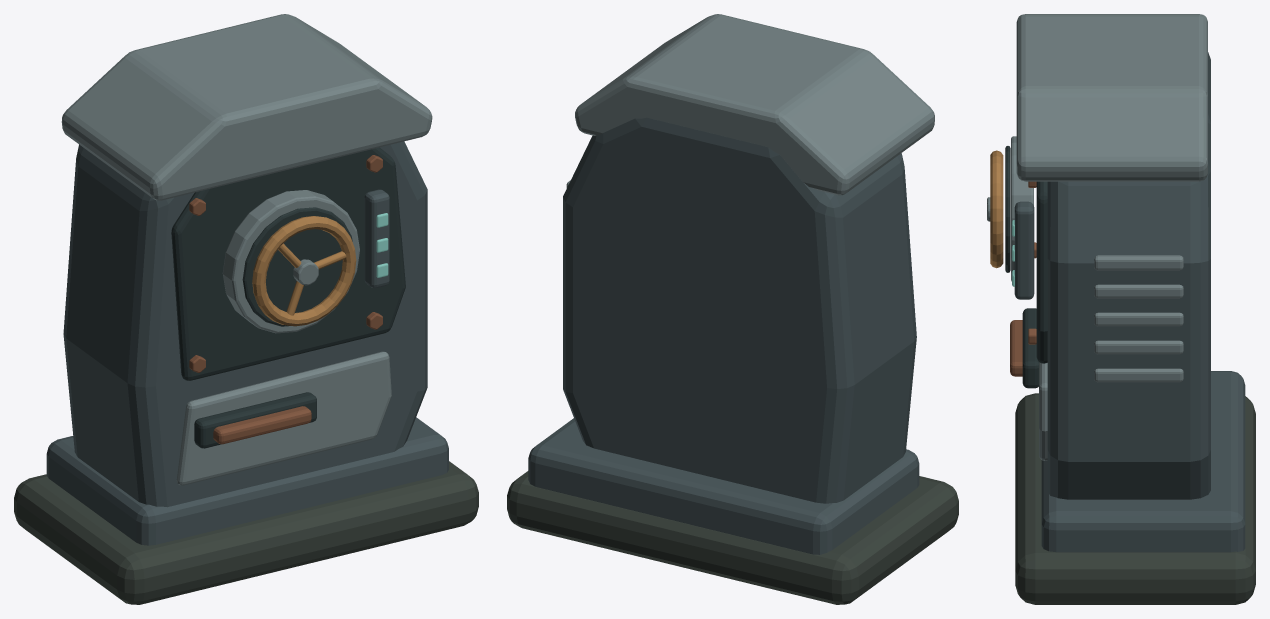
The model's file is basin_lock_controller.glb.
3 views of the same model, side by side, from view 1: azimuth 30°, elevation 25°; view 2: azimuth 150°, elevation 25°; view 3: azimuth 270°, elevation 25° (orthographic). The views are drawn at different scales.
Visible parts, largest first — view 1: Slightly raked cast pressure case, Water diversion lip, Bolt-down curb, Recessed valve face gasket, Drainage shoulder, Trapezoidal hinge plate, Valve face shadow, Front valve bushing, Lock pressure handwheel, Punched hinge opening, Status glass rail, Replaceable hinge insert; view 2: Slightly raked cast pressure case, Water diversion lip, Bolt-down curb, Drainage shoulder; view 3: Slightly raked cast pressure case, Water diversion lip, Bolt-down curb, Drainage shoulder, Recessed valve face gasket, Status glass rail, Lock pressure handwheel, Right-side cooling louvre.004, Right-side cooling louvre, Right-side cooling louvre.001, Right-side cooling louvre.002, Right-side cooling louvre.003 (+5 smaller).
Part boxes in pixels (bbox=[...]): Slightly raked cast pressure case: bbox=[63, 141, 427, 507]; Water diversion lip: bbox=[61, 14, 432, 200]; Bolt-down curb: bbox=[14, 461, 478, 604]; Recessed valve face gasket: bbox=[171, 147, 405, 380]; Drainage shoulder: bbox=[46, 417, 448, 545]; Trapezoidal hinge plate: bbox=[176, 351, 391, 485]; Valve face shadow: bbox=[242, 207, 352, 326]; Front valve bushing: bbox=[222, 190, 359, 333]; Lock pressure handwheel: bbox=[252, 216, 356, 326]; Punched hinge opening: bbox=[194, 392, 316, 448]; Status glass rail: bbox=[364, 189, 389, 288]; Replaceable hinge insert: bbox=[213, 406, 311, 444]; Slightly raked cast pressure case: bbox=[563, 117, 916, 503]; Water diversion lip: bbox=[575, 14, 934, 195]; Bolt-down curb: bbox=[507, 471, 958, 604]; Drainage shoulder: bbox=[528, 418, 919, 554]; Slightly raked cast pressure case: bbox=[1047, 52, 1210, 499]; Water diversion lip: bbox=[1016, 14, 1207, 181]; Bolt-down curb: bbox=[1015, 393, 1255, 604]; Drainage shoulder: bbox=[1041, 371, 1245, 552]; Recessed valve face gasket: bbox=[1036, 181, 1047, 363]; Status glass rail: bbox=[1014, 201, 1034, 299]; Lock pressure handwheel: bbox=[990, 150, 1003, 268]; Right-side cooling louvre.004: bbox=[1094, 255, 1183, 270]; Right-side cooling louvre: bbox=[1094, 368, 1183, 382]; Right-side cooling louvre.001: bbox=[1094, 340, 1183, 354]; Right-side cooling louvre.002: bbox=[1094, 312, 1183, 326]; Right-side cooling louvre.003: bbox=[1094, 284, 1183, 298].
Bounding box in the file's own units: 1.34 × 1.68 × 0.871.
